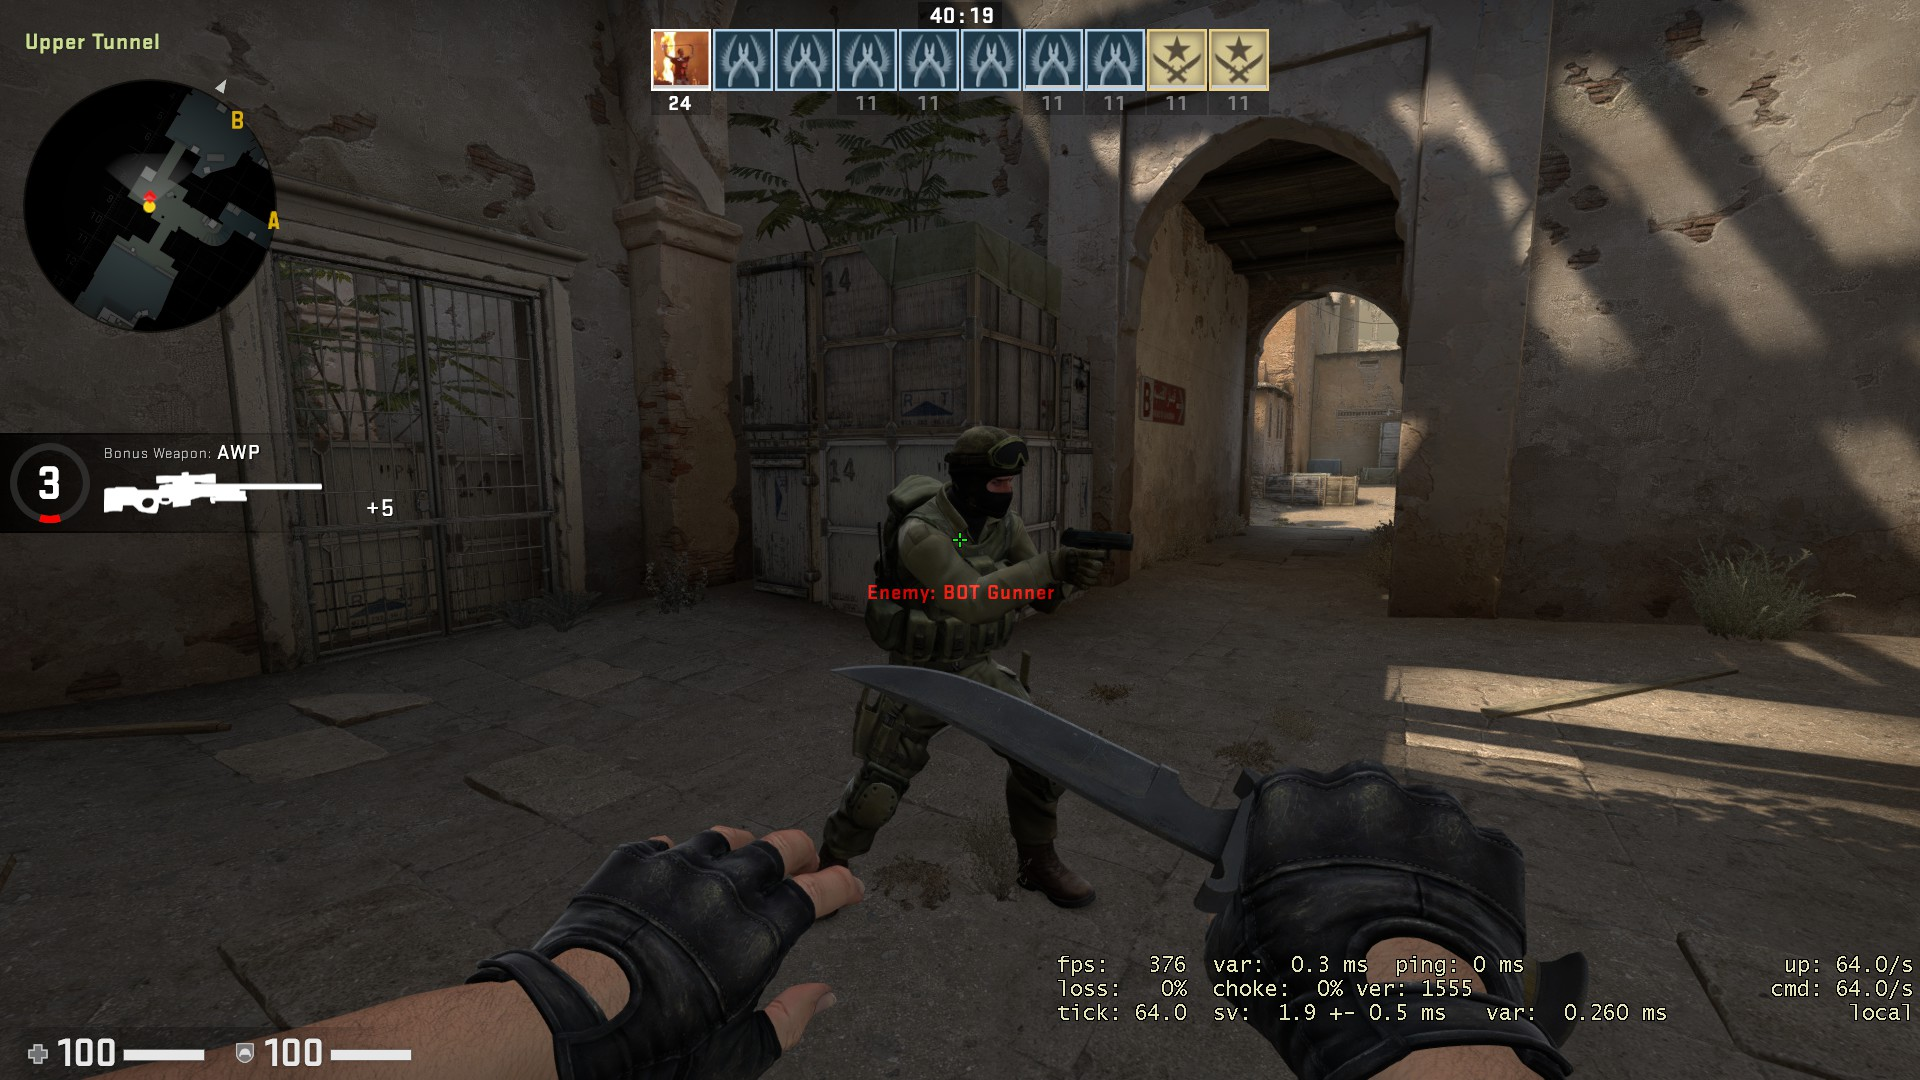player: (795, 420, 1102, 916)
